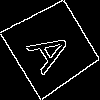A: (26, 23, 84, 76)
